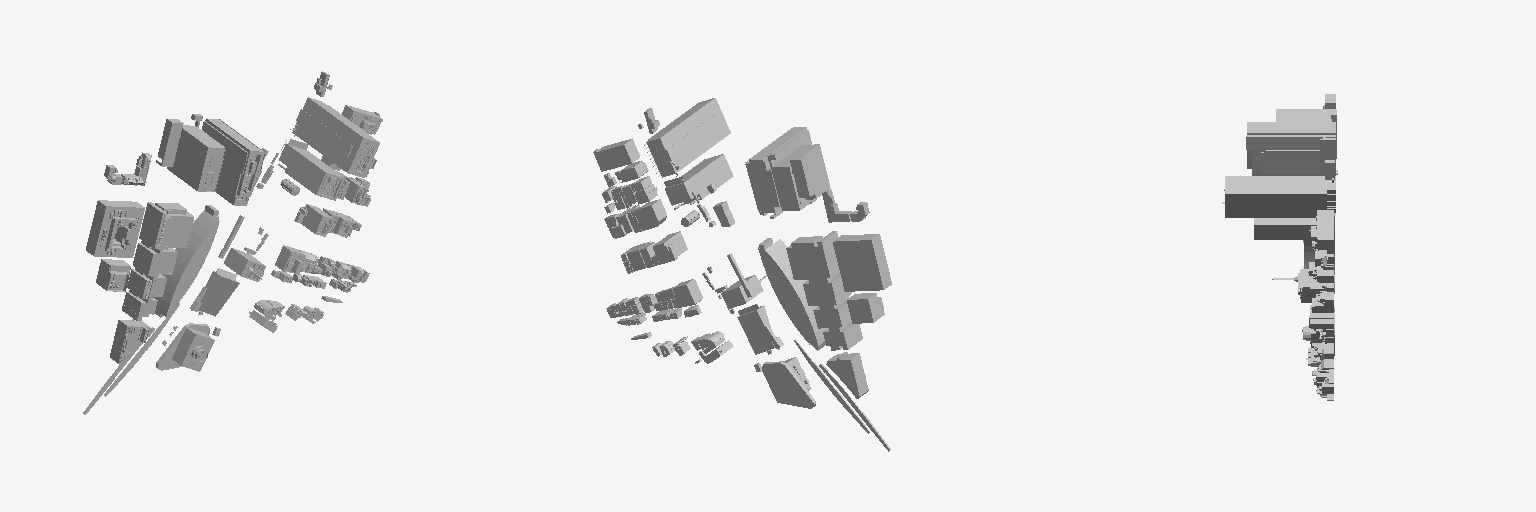
Rendered from 533946111_bldg_6677.obj.
3 renders of one model, left to right at view 1: azimuth 30°, elevation 25°; view 2: azimuth 150°, elevation 25°; view 3: azimuth 270°, elevation 25°, orthographic.
Bounding box in the file's own units: 641 × 587 × 216.